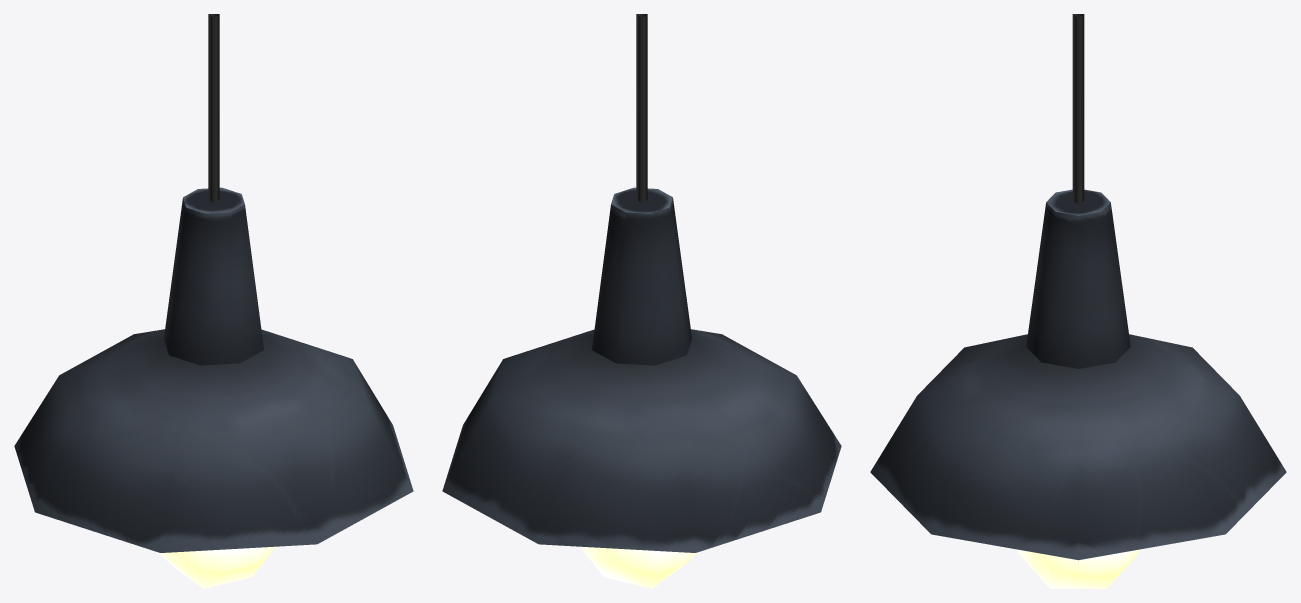
File: ELT0110015.fbx
The picture shows the model from 3 angles, left to right: view 1: azimuth 30°, elevation 25°; view 2: azimuth 150°, elevation 25°; view 3: azimuth 270°, elevation 25°; orthographic projection.
Visible parts, largest first — view 1: smELT0110015; view 2: smELT0110015; view 3: smELT0110015.
Part boxes in pixels (x1,y1,x2,y2): smELT0110015: [14, 14, 413, 588]; smELT0110015: [442, 14, 841, 588]; smELT0110015: [870, 14, 1286, 588].
Bounding box in the file's own units: 44.28 × 66.56 × 44.28.
1 material, 1 textured.
